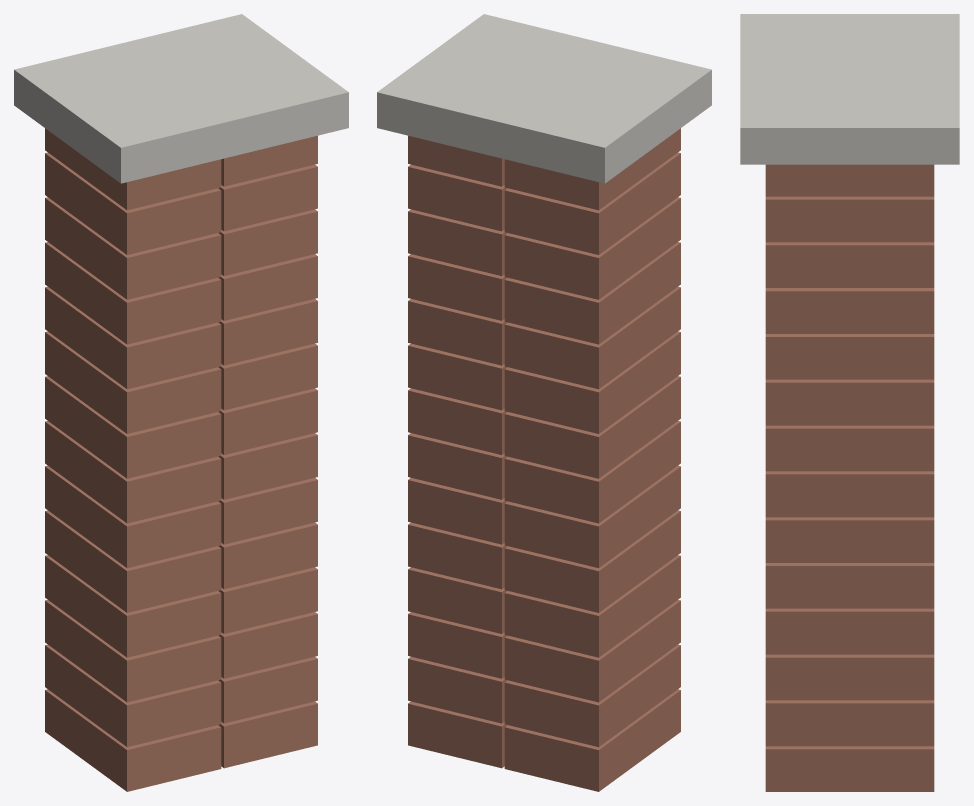
File: chimney.glb
3 renders of one model, left to right at view 1: azimuth 30°, elevation 25°; view 2: azimuth 150°, elevation 25°; view 3: azimuth 270°, elevation 25°, orthographic. The views are drawn at different scales.
Visible parts, largest first — view 1: world; view 2: world; view 3: world.
Boxes of the visible parts, box(x1,y1,x2,y2) form: world: box(14, 14, 348, 791); world: box(377, 14, 711, 791); world: box(740, 14, 959, 791).
Bounding box in the file's own units: 0.8 × 2.21 × 0.65.
